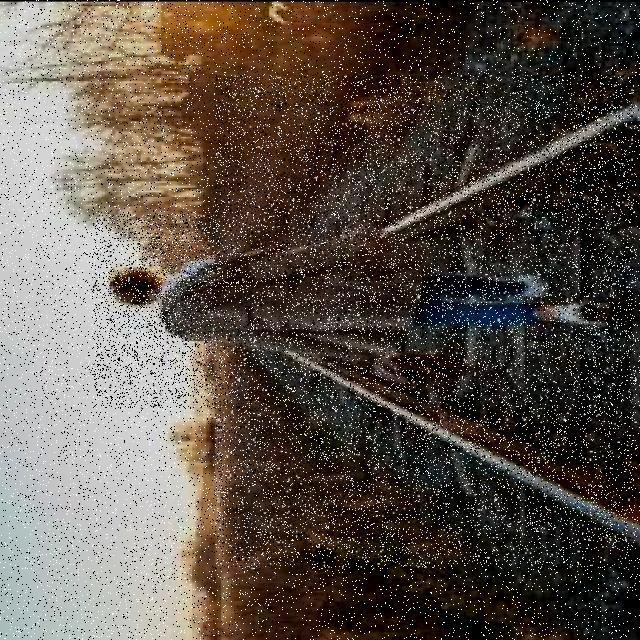rail: (217, 76, 637, 570)
